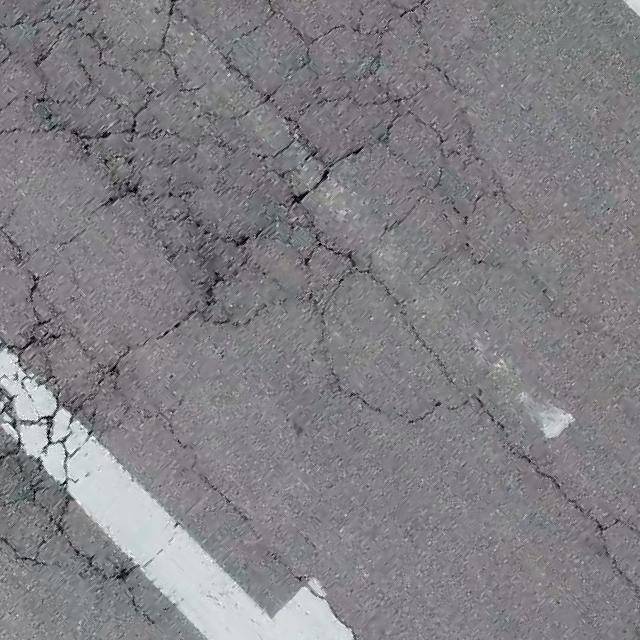GRIETA: (123, 404, 359, 639), (477, 398, 603, 530), (524, 265, 639, 350), (66, 538, 158, 627), (598, 532, 639, 597), (605, 518, 639, 535)
PIEL DE COCODRILO: (0, 0, 533, 571)
